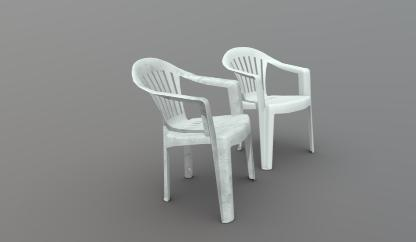chair: (132, 52, 266, 225), (222, 43, 323, 177)
